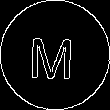M_N: (31, 29, 79, 81)
